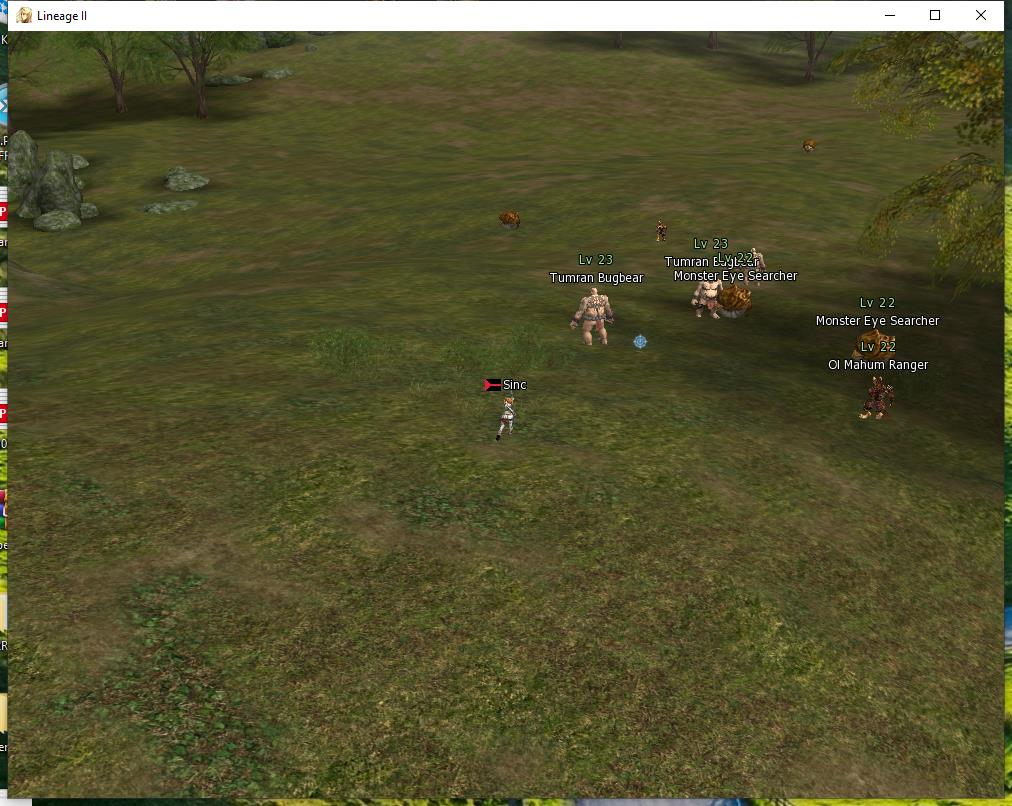monster: (661, 239, 772, 325), (549, 244, 628, 357), (806, 292, 942, 349), (821, 354, 929, 422), (495, 204, 535, 235), (798, 132, 816, 157), (651, 223, 668, 236)
